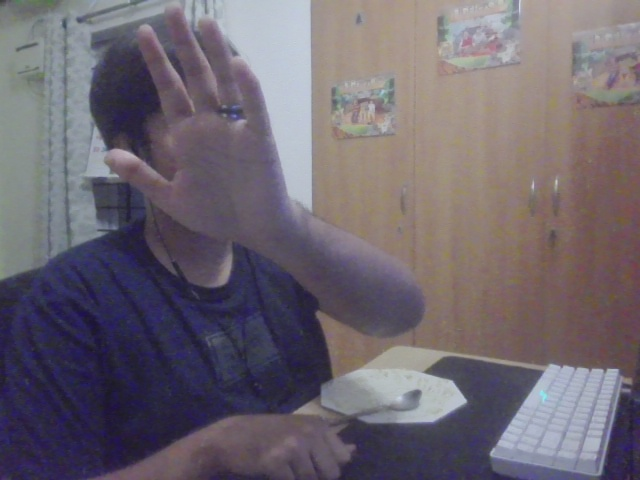hello: (101, 3, 297, 248)
